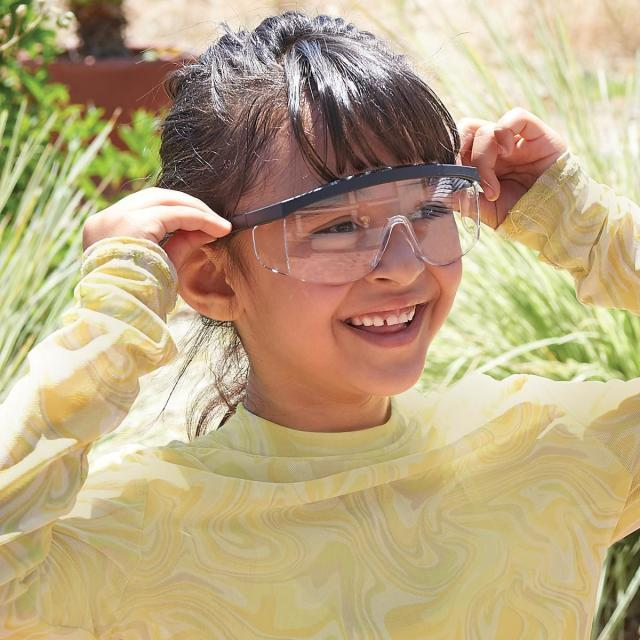Safety Glasses: (247, 159, 488, 286)
